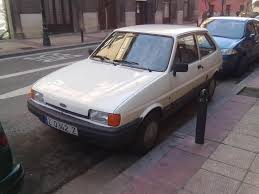car: (23, 24, 221, 141), (198, 17, 259, 67)
